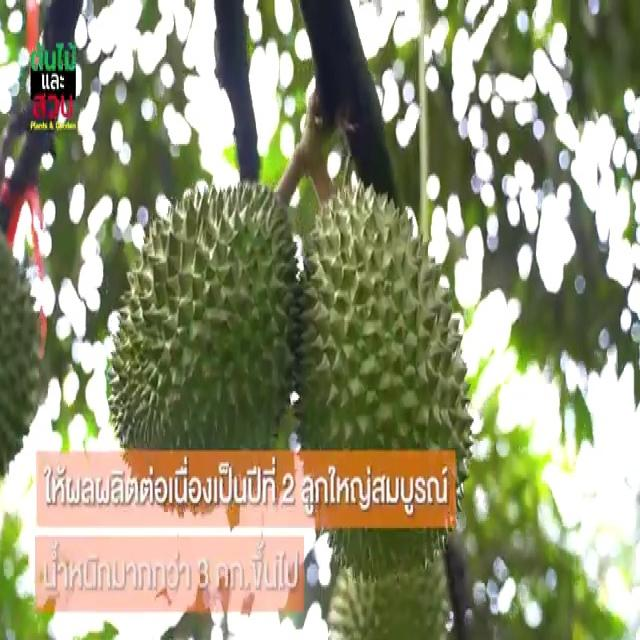durian: (288, 174, 474, 582), (105, 174, 304, 526)
